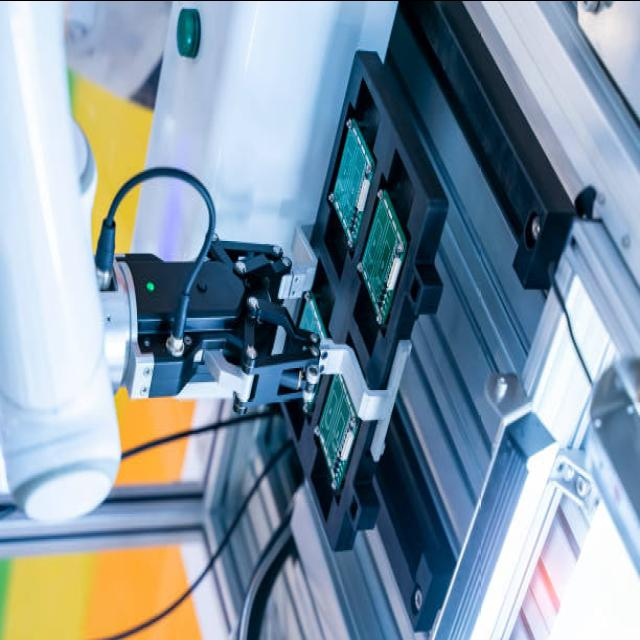Robotic-arm: (0, 0, 319, 527)
